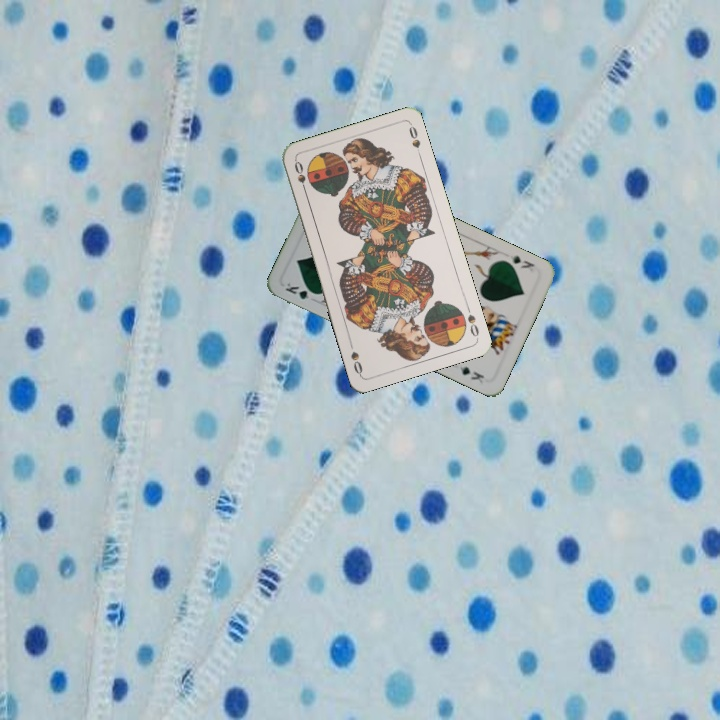GK: (281, 277, 321, 304), (506, 250, 537, 271)
SO: (290, 157, 310, 197), (462, 301, 482, 341)
